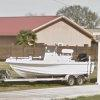Boat: (4, 46, 95, 92)
